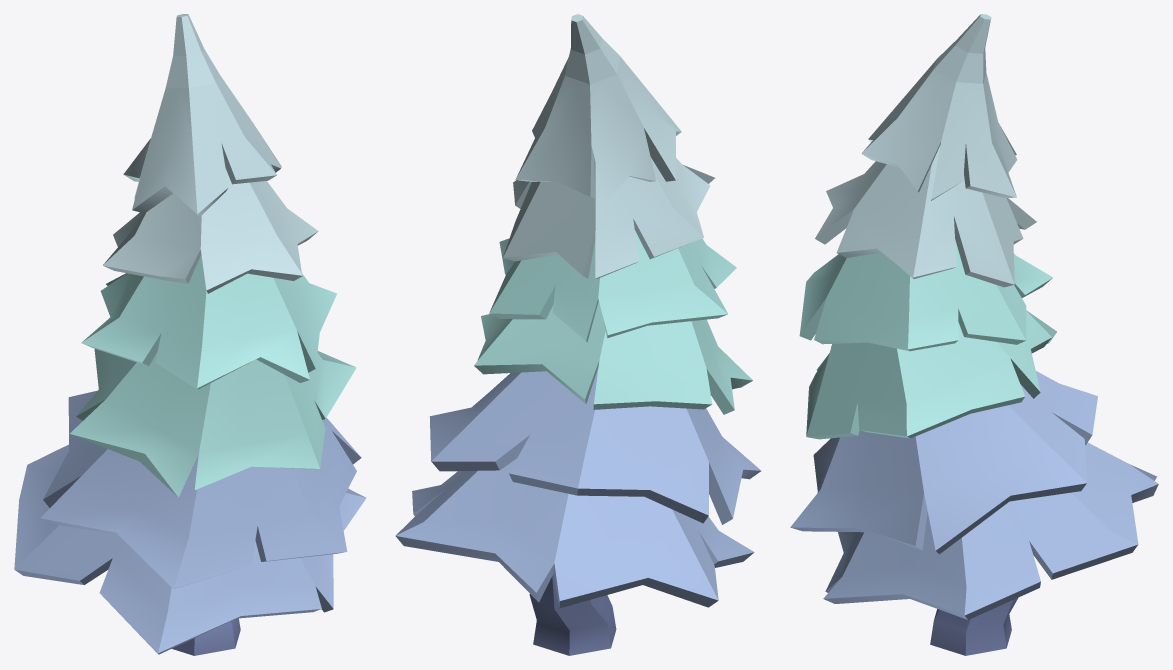
Rendered from pineTree_Blue.fbx.
The picture shows the model from 3 angles, left to right: view 1: azimuth 30°, elevation 25°; view 2: azimuth 150°, elevation 25°; view 3: azimuth 270°, elevation 25°; orthographic projection.
Parts seen in each view (by area): view 1: pCylinder91, pCylinder92, pCylinder90, pCylinder93, pCylinder95, pCylinder94, pCylinder88; view 2: pCylinder90, pCylinder91, pCylinder92, pCylinder95, pCylinder94, pCylinder93, pCylinder88; view 3: pCylinder91, pCylinder90, pCylinder92, pCylinder93, pCylinder94, pCylinder95, pCylinder88.
Boxes of the visible parts, bbox=[...] form: pCylinder91: bbox=[40, 390, 361, 588]; pCylinder92: bbox=[69, 349, 356, 497]; pCylinder90: bbox=[14, 444, 366, 654]; pCylinder93: bbox=[81, 255, 336, 389]; pCylinder95: bbox=[123, 14, 281, 216]; pCylinder94: bbox=[103, 169, 318, 293]; pCylinder88: bbox=[172, 618, 240, 655]; pCylinder90: bbox=[395, 458, 754, 608]; pCylinder91: bbox=[429, 367, 761, 524]; pCylinder92: bbox=[474, 301, 752, 414]; pCylinder95: bbox=[515, 14, 681, 201]; pCylinder94: bbox=[503, 155, 714, 278]; pCylinder93: bbox=[489, 230, 736, 342]; pCylinder88: bbox=[529, 575, 616, 655]; pCylinder91: bbox=[790, 371, 1097, 554]; pCylinder90: bbox=[823, 442, 1158, 619]; pCylinder92: bbox=[806, 310, 1056, 439]; pCylinder93: bbox=[799, 239, 1052, 351]; pCylinder94: bbox=[815, 145, 1036, 287]; pCylinder95: bbox=[861, 14, 1017, 200]; pCylinder88: bbox=[930, 598, 1017, 655].
Size of the model in its own units: 7.08 by 12.81 by 6.94.
